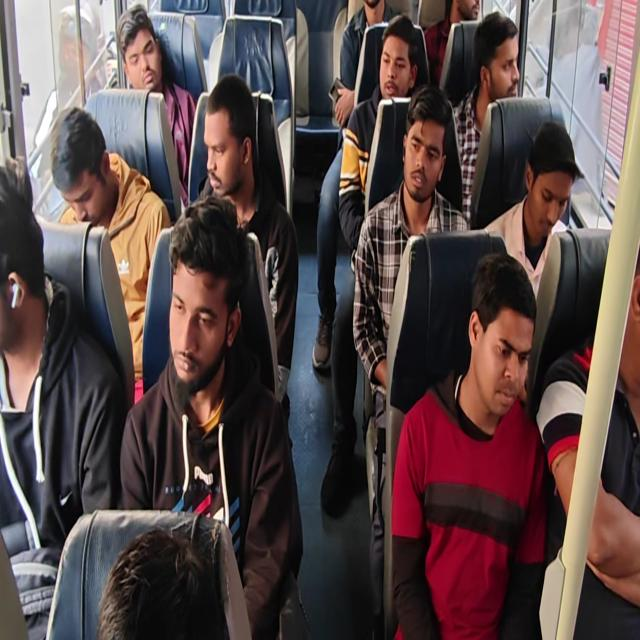person: (98, 502, 229, 640), (167, 192, 243, 390), (0, 168, 56, 392), (463, 251, 530, 431), (196, 72, 258, 197), (50, 108, 117, 222), (396, 78, 454, 207), (518, 120, 579, 239), (607, 232, 640, 389), (472, 10, 520, 104), (116, 5, 166, 94), (376, 8, 414, 106), (436, 0, 488, 32), (360, 0, 392, 32)
